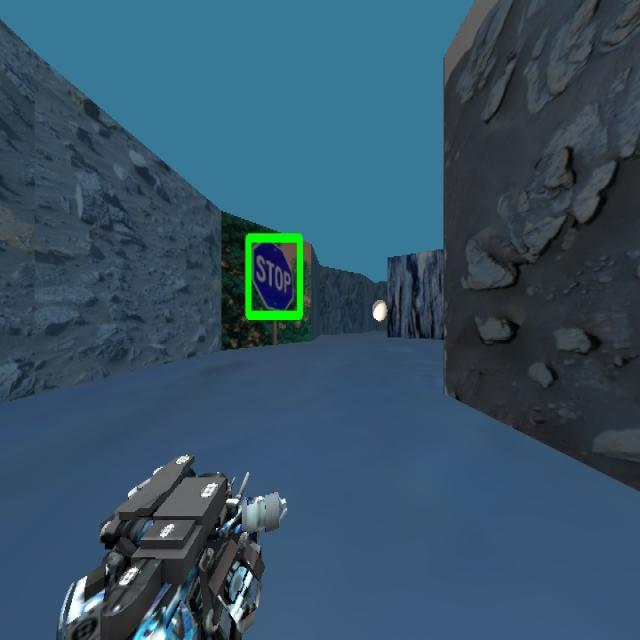Circle: (372, 298, 388, 322)
Stop_Sign: (244, 231, 304, 321)
